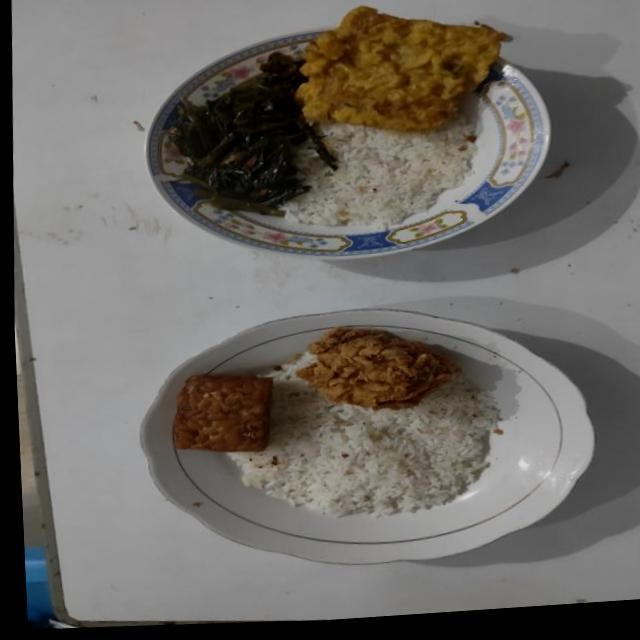nasi_putih: (232, 352, 500, 517), (283, 114, 478, 228)
tempe_goreng: (172, 374, 272, 452)
tumis_kangkung: (168, 52, 338, 215)
